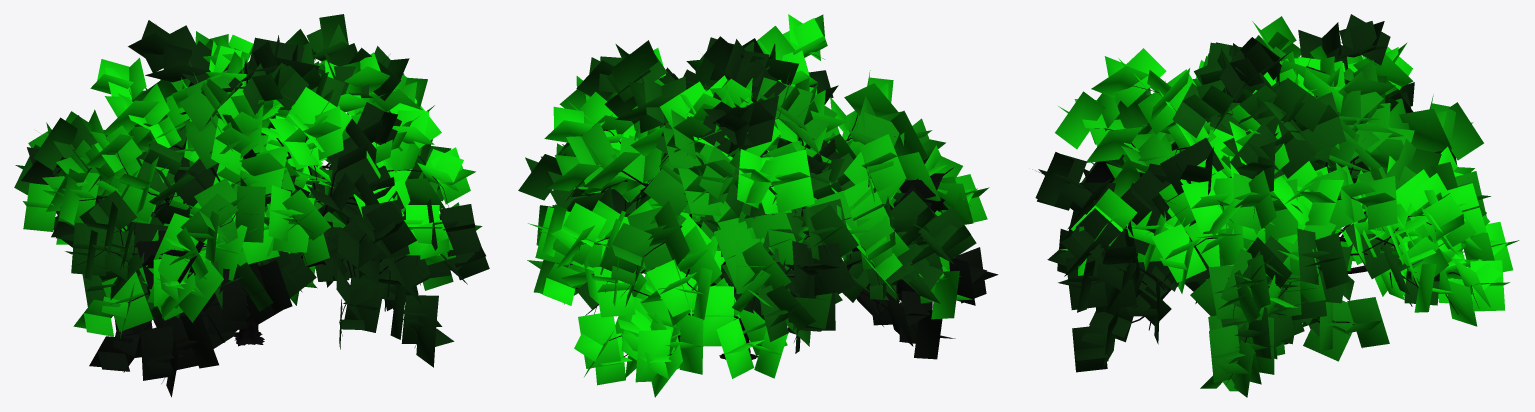
File: Euro_Beech_1.fbx
3 views of the same model, side by side, from view 1: azimuth 30°, elevation 25°; view 2: azimuth 150°, elevation 25°; view 3: azimuth 270°, elevation 25° (orthographic). The views are drawn at different scales.
Parts seen in each view (by area): view 1: Euro_Beech_1; view 2: Euro_Beech_1; view 3: Euro_Beech_1.
Boxes of the visible parts, x1=… form: Euro_Beech_1: x1=14, y1=14, x2=489, y2=397; Euro_Beech_1: x1=518, y1=14, x2=998, y2=397; Euro_Beech_1: x1=1032, y1=14, x2=1519, y2=397.
Bounding box in the file's own units: 868 × 600 × 853.
